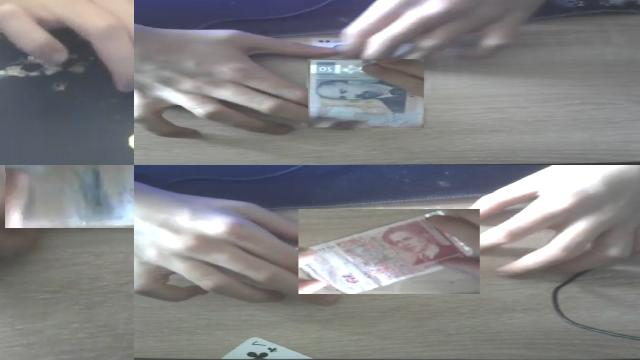20leva: (7, 165, 134, 228), (308, 59, 424, 127)
5leva: (298, 209, 480, 294)
